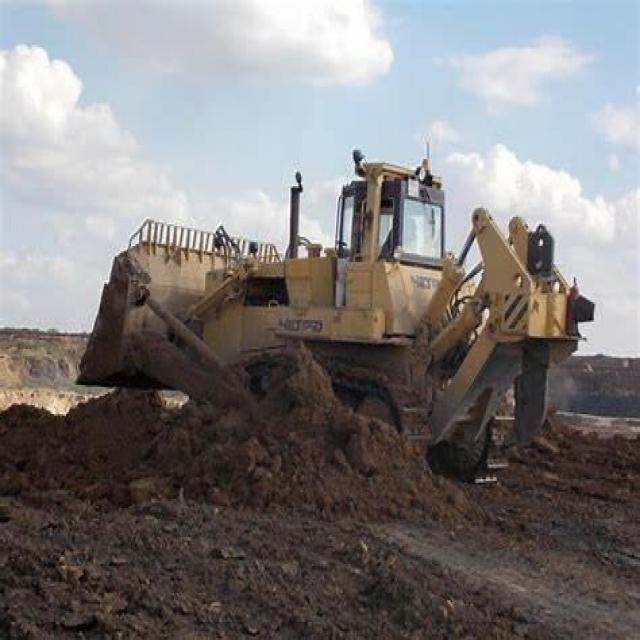Bulldozer: (88, 123, 595, 495)
